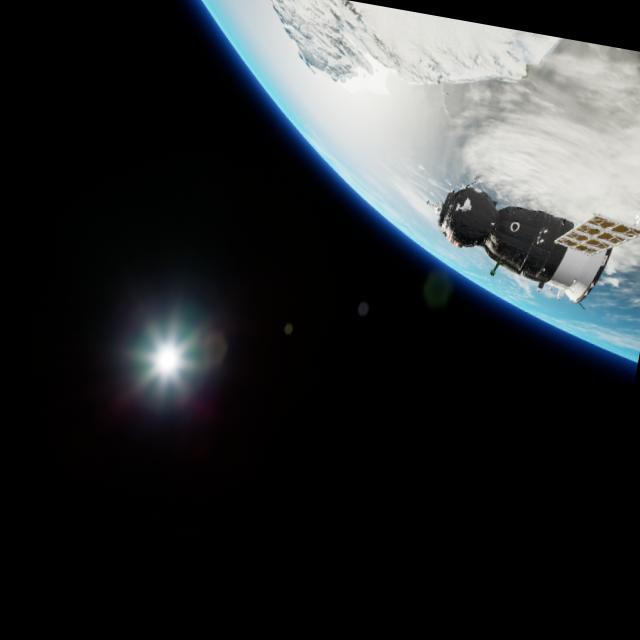Satellites revolving around earth: (127, 0, 640, 362), (423, 173, 640, 316)
